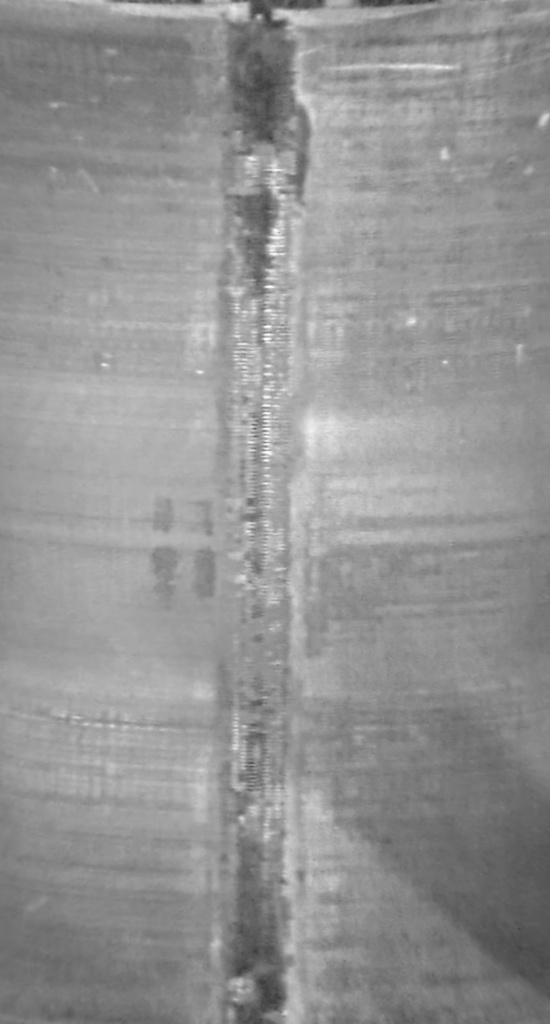splice: (214, 1, 311, 1022)
